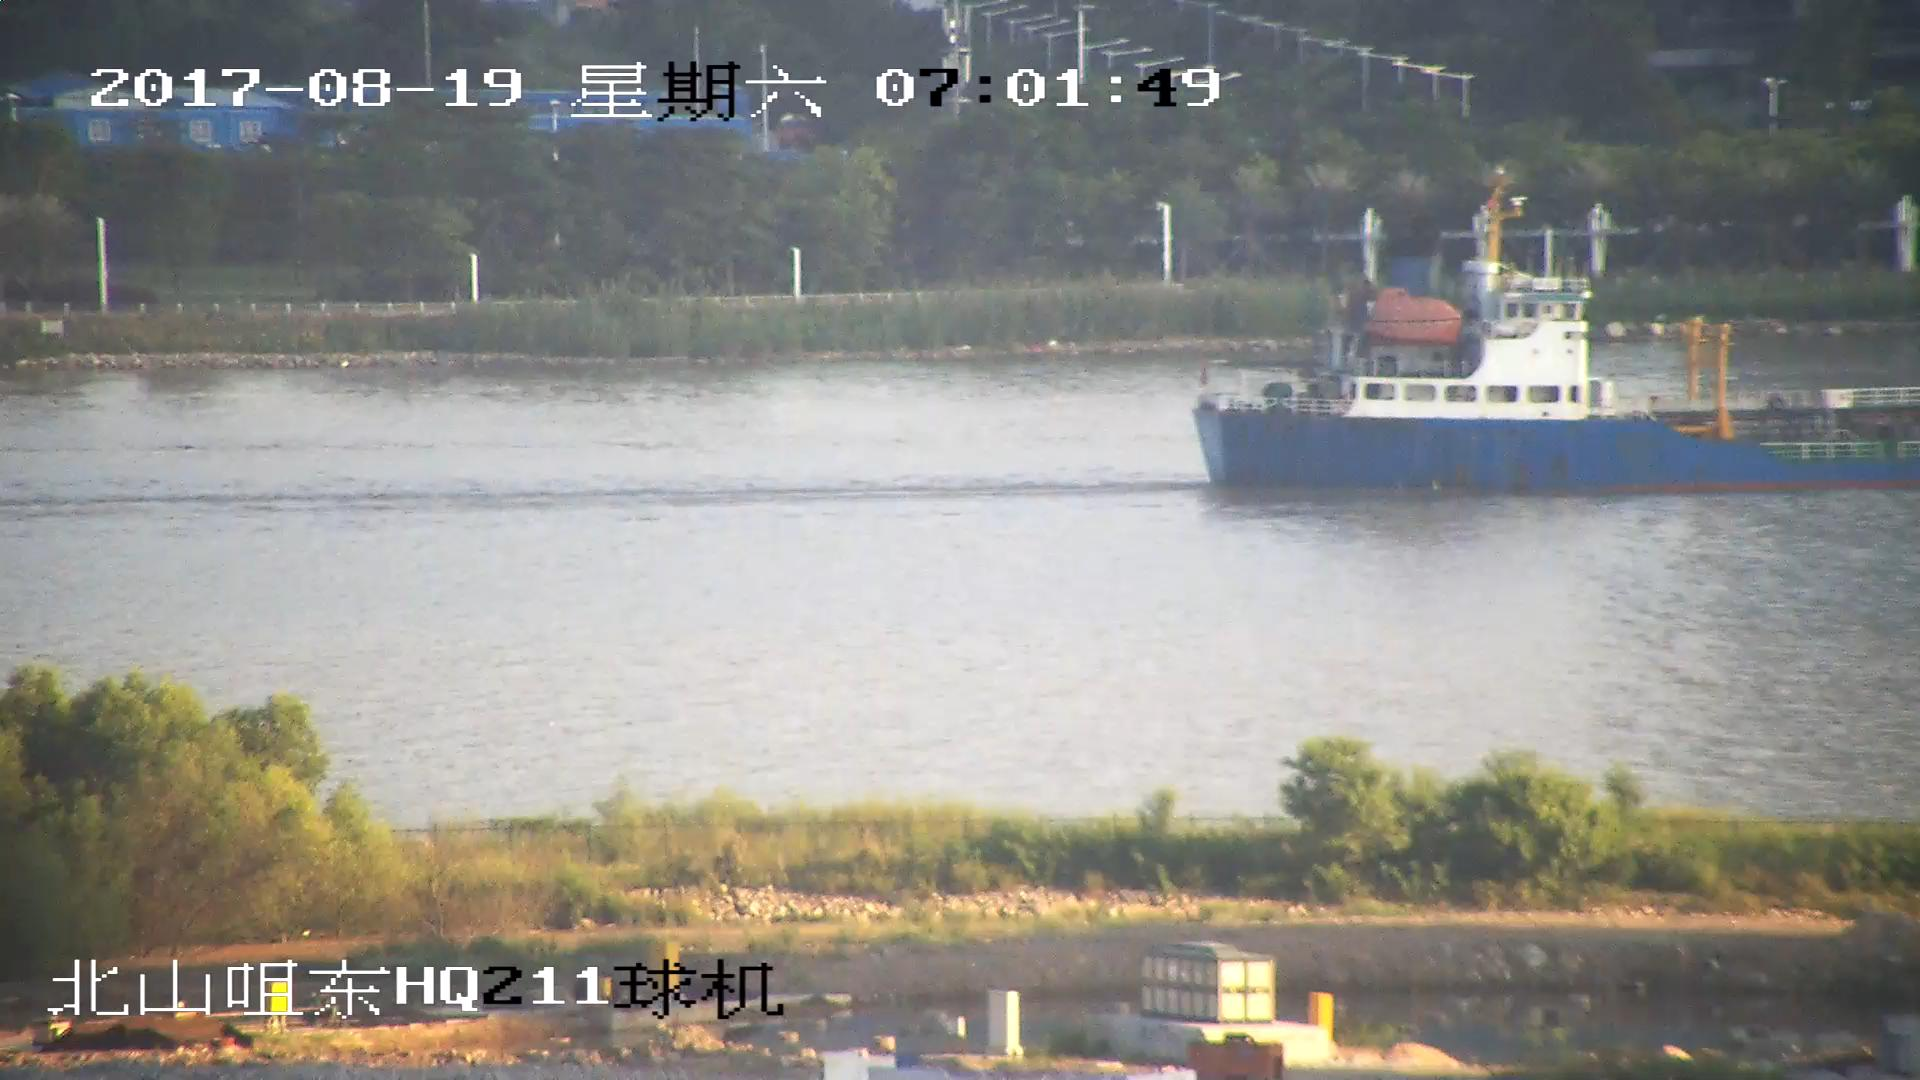general cargo ship: (1189, 212, 1920, 497)
